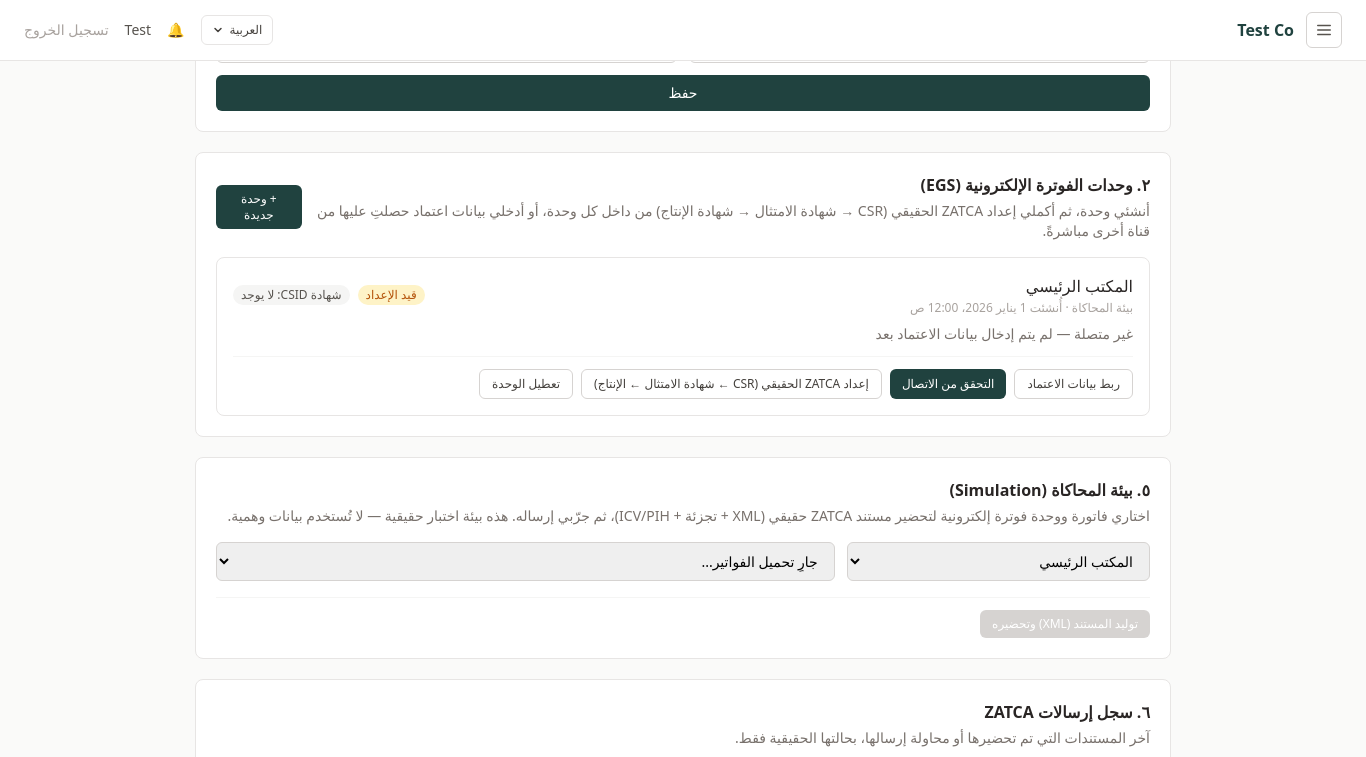
Test: <ZatcaSettings/> — Compliance Invoice (test) step › submits the compliance-test document and lists prior attempts, never fabricating an outcome
(page scrolled)
Click the button "إعداد ZATCA الحقيقي (CSR ← شهادة الامتثال ← الإنتاج)" at x=732, y=384, box [581, 369, 882, 399]
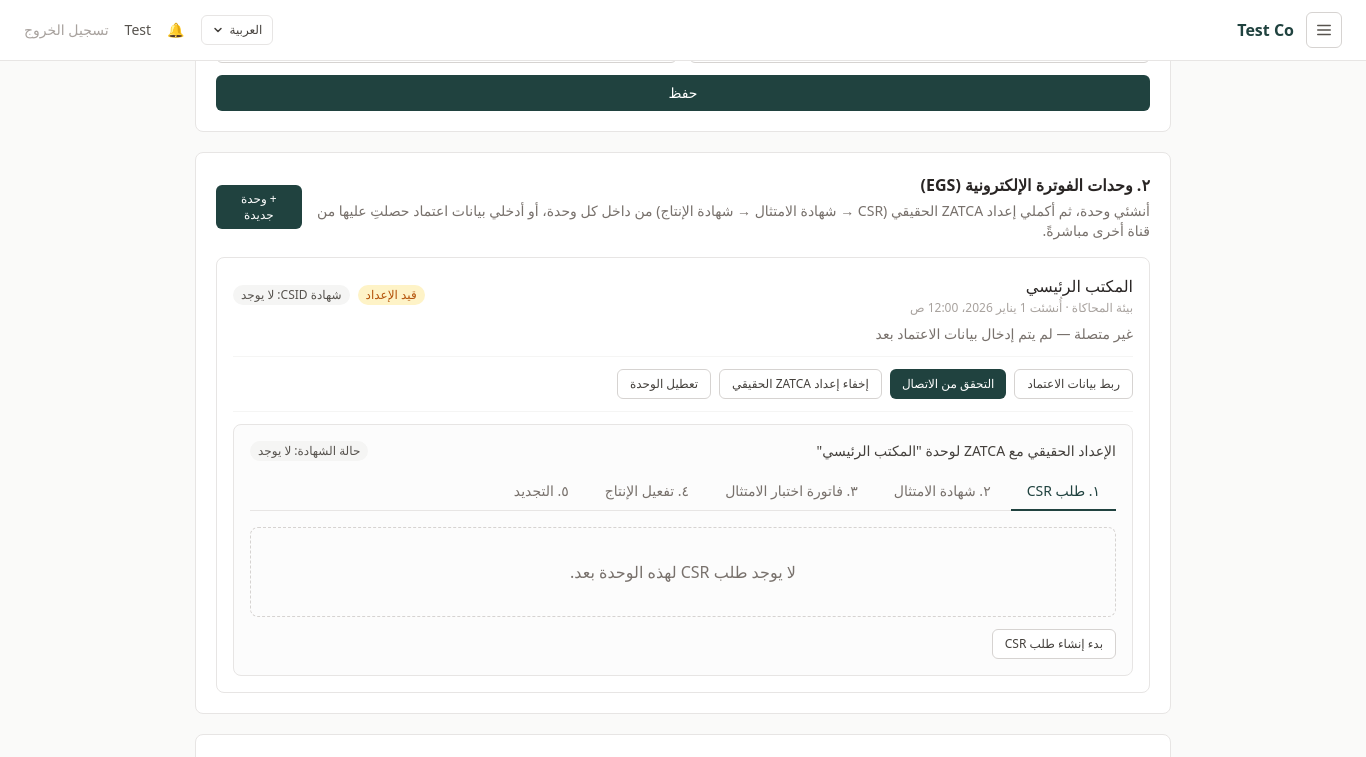
Expected: the tab "١. طلب CSR" is shown, [1011, 473, 1116, 511]
Click the tab "٣. فاتورة اختبار الامتثال" at x=791, y=492, box [709, 473, 874, 511]
(page scrolled)
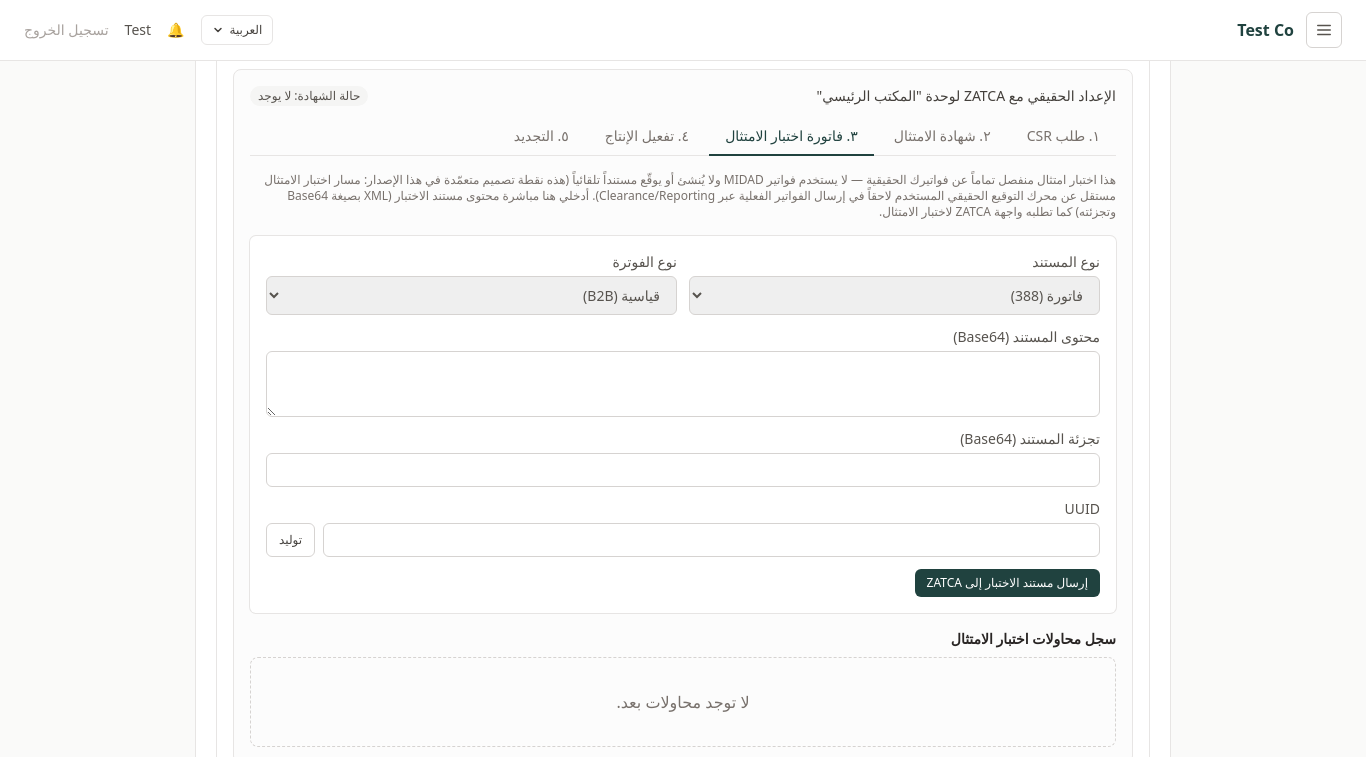
Expected: the text "لا توجد محاولات بعد." is shown, [616, 691, 750, 713]
Type "PGE+PC9hPg==" into the text box labelled "محتوى المستند (Base64)" at x=683, y=384, box [266, 351, 1100, 417]
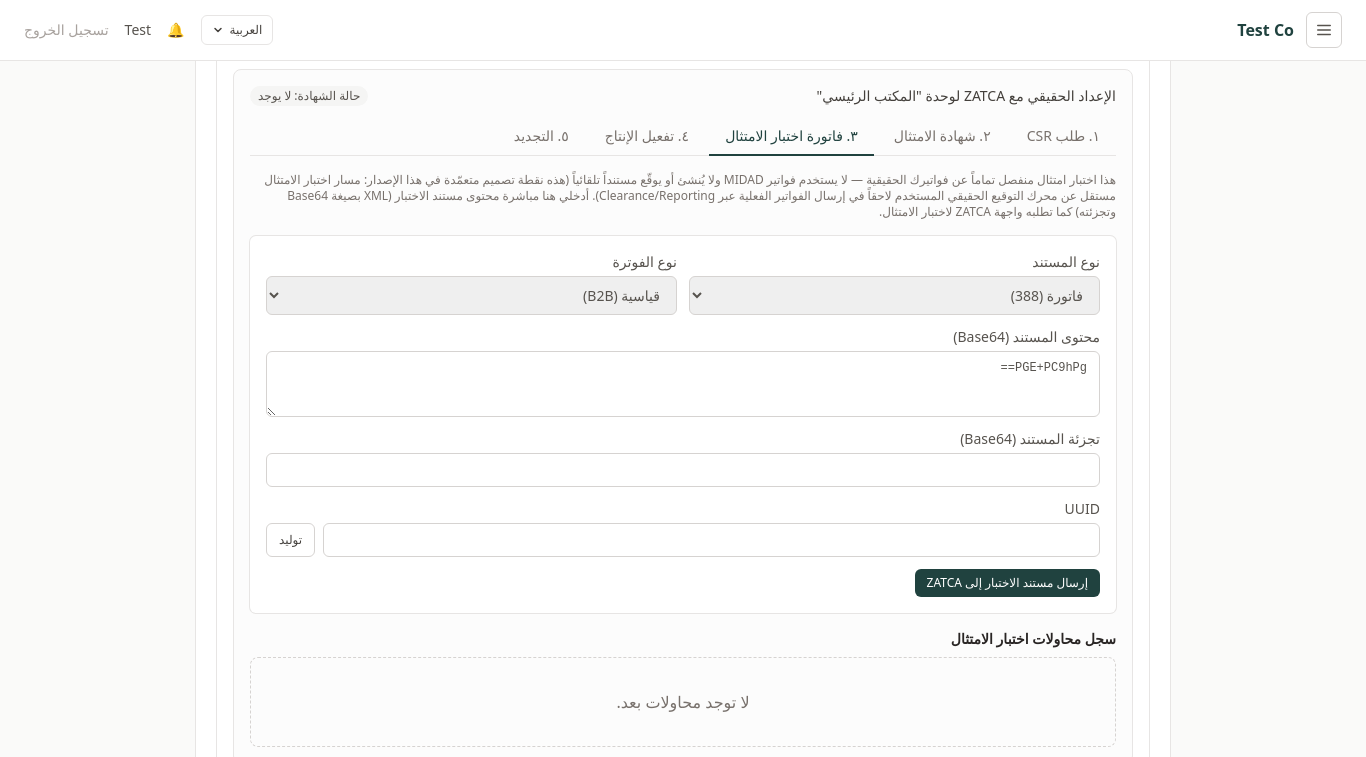
Type "abc123==" into the field labelled "تجزئة المستند (Base64)" at x=683, y=470, box [266, 453, 1100, 487]
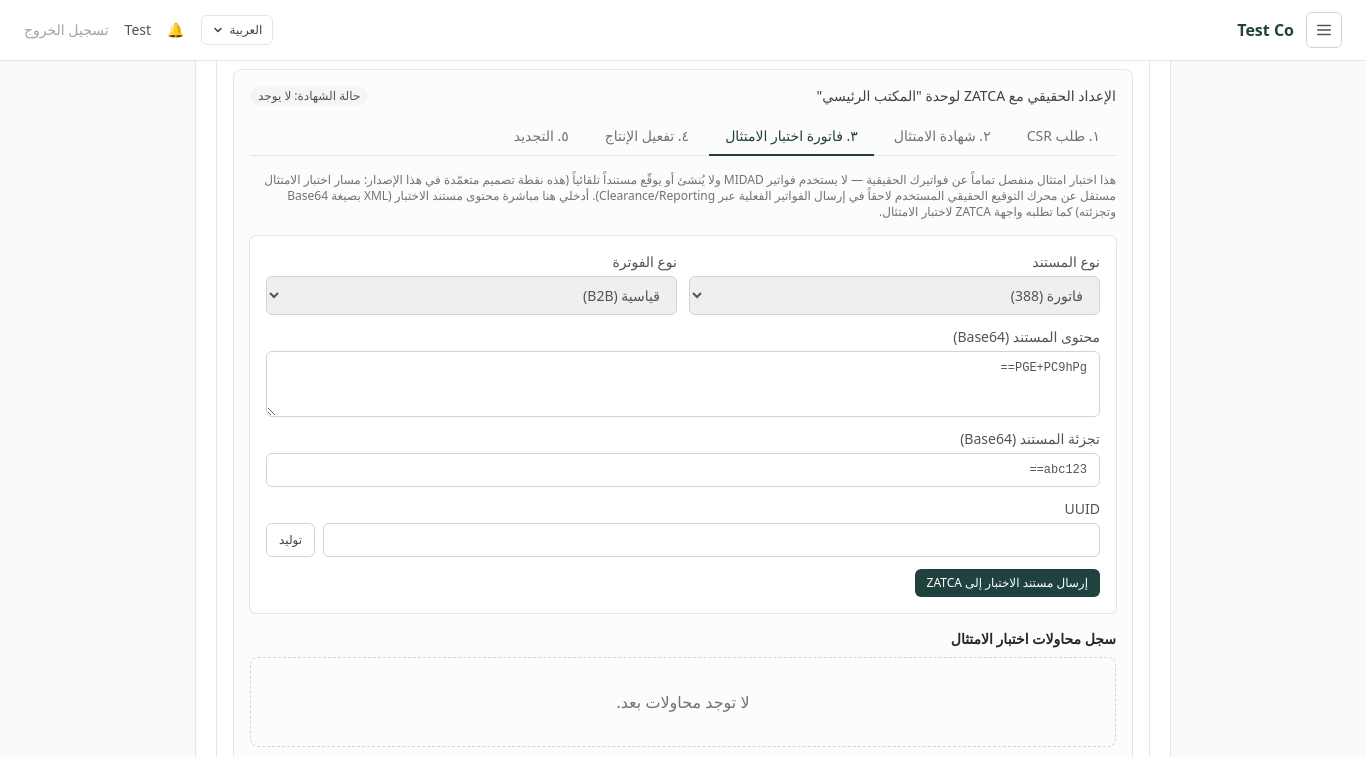
Type "11111111-1111-1111-1111-111111111111" into the field labelled "UUID" at x=712, y=540, box [323, 523, 1100, 557]
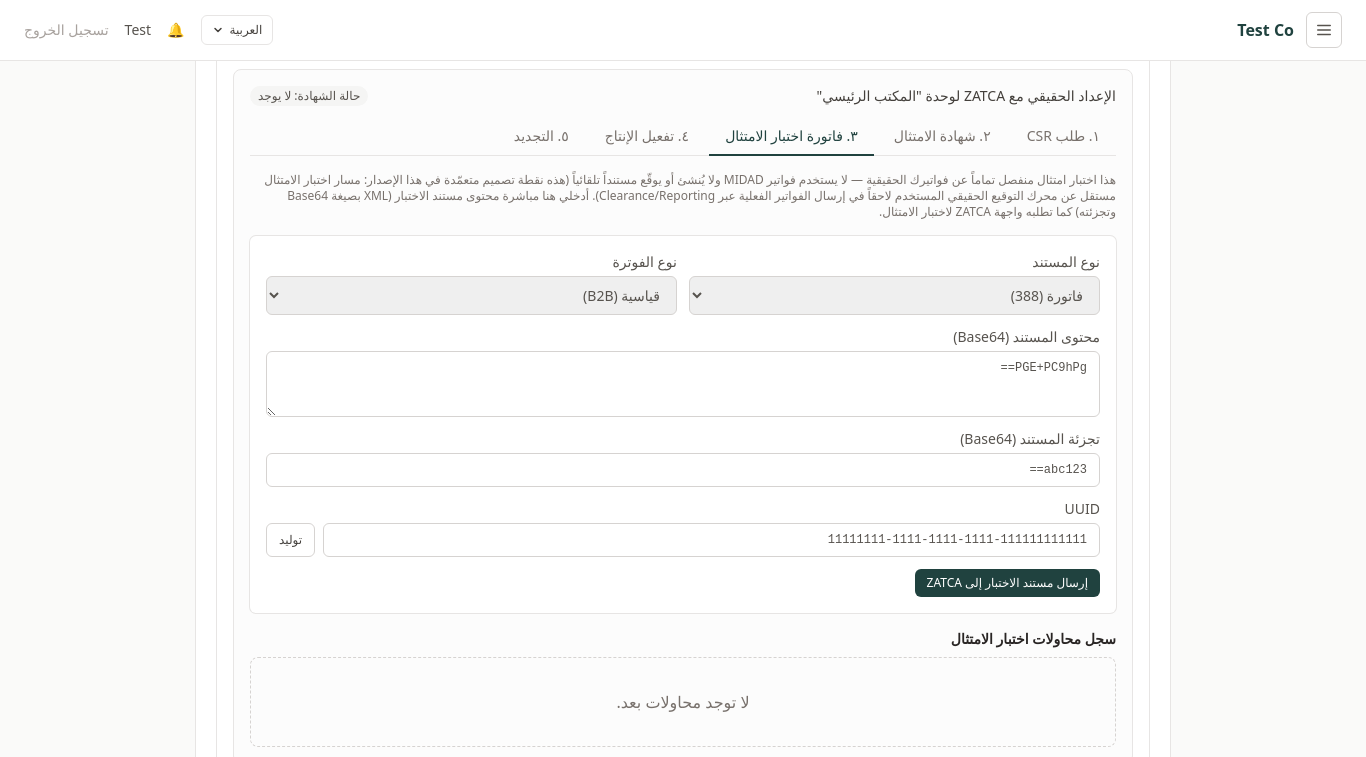
Click the button "إرسال مستند الاختبار إلى ZATCA" at x=1007, y=583, box [915, 569, 1100, 597]
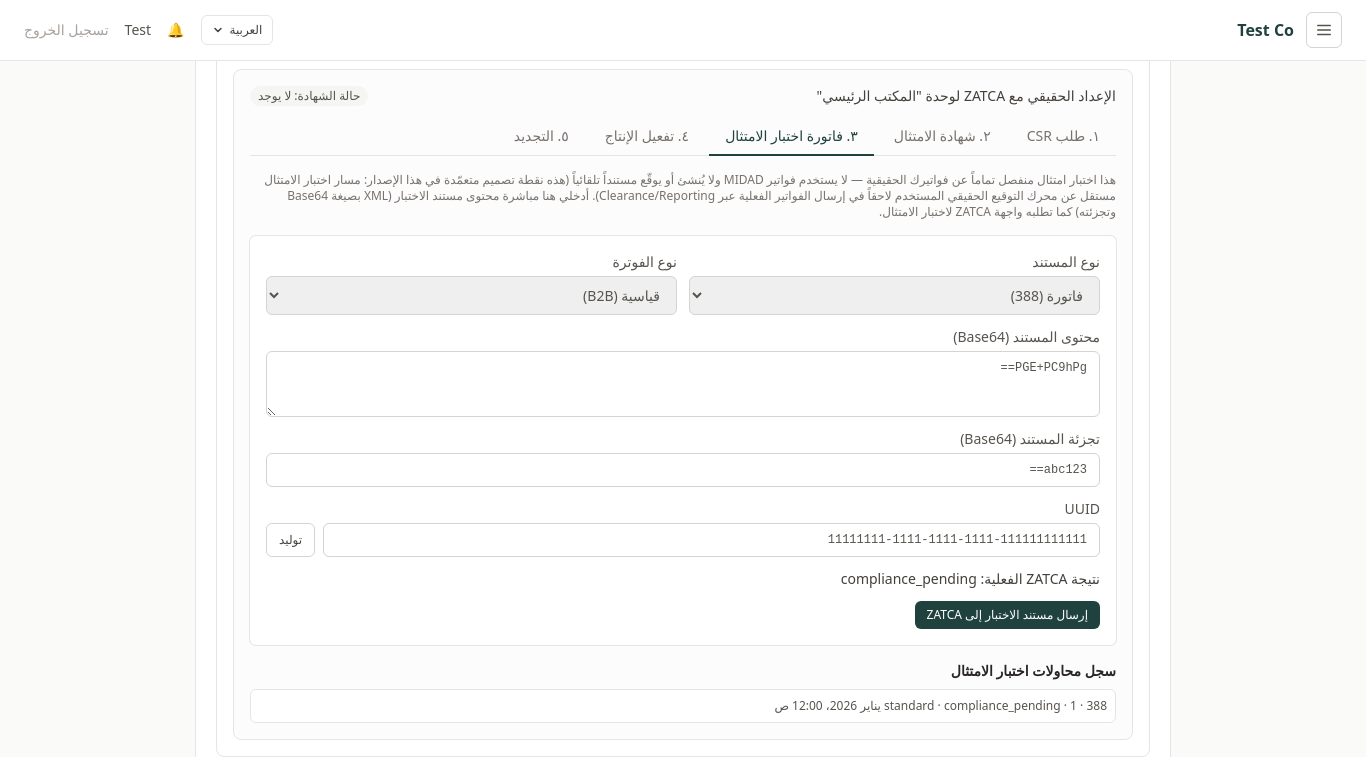
Expected: the text "نتيجة ZATCA الفعلية: compliance_pending" is shown, [841, 569, 1100, 588]
Expected: the text "388" is shown, [1086, 697, 1107, 714]
